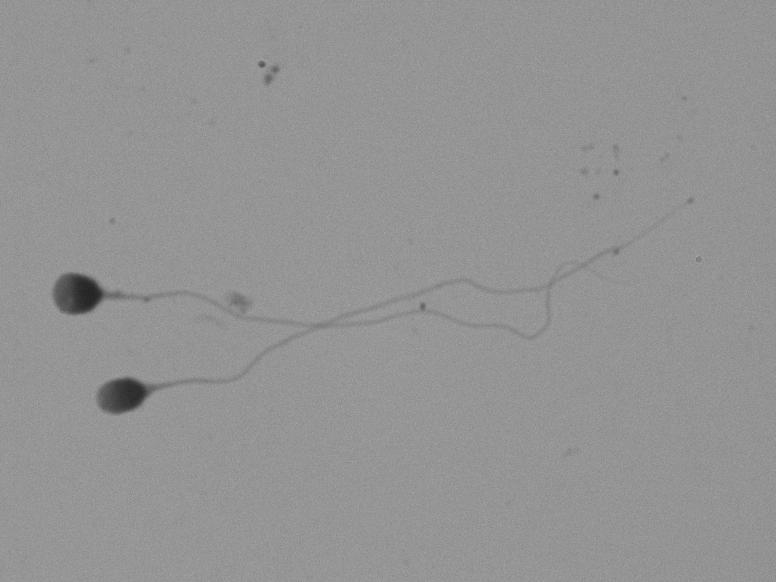Abnormal: (19, 205, 270, 364)
Normal: (81, 317, 626, 457)
